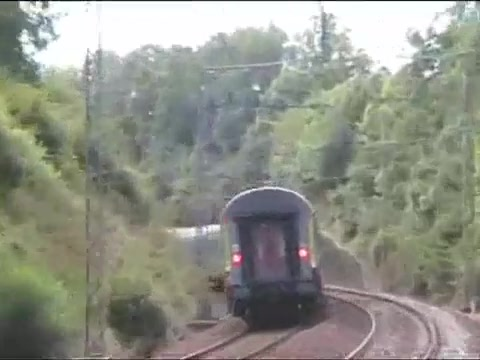train: (171, 178, 324, 326)
